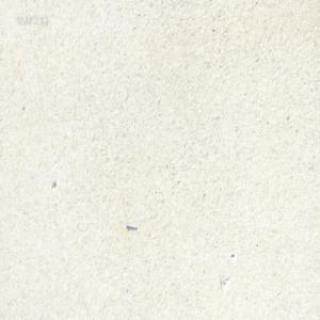Nailtrack_idkeyframe: (116, 222, 142, 232)
